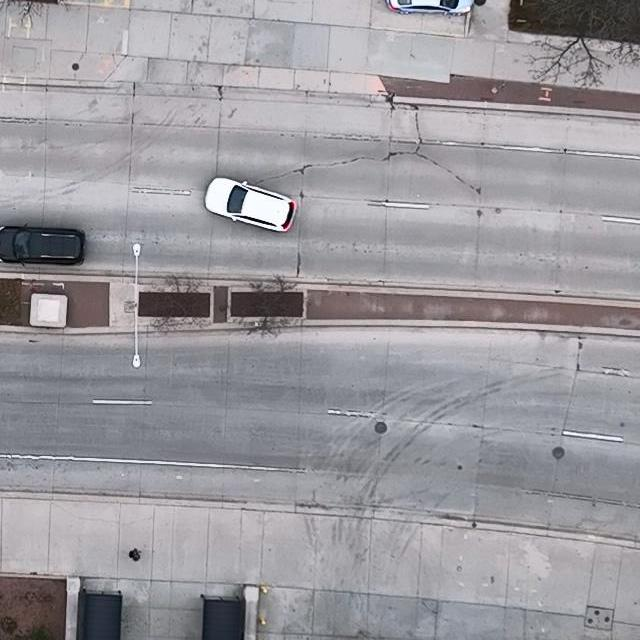car: (205, 176, 297, 232), (0, 222, 85, 267), (385, 0, 475, 15)
